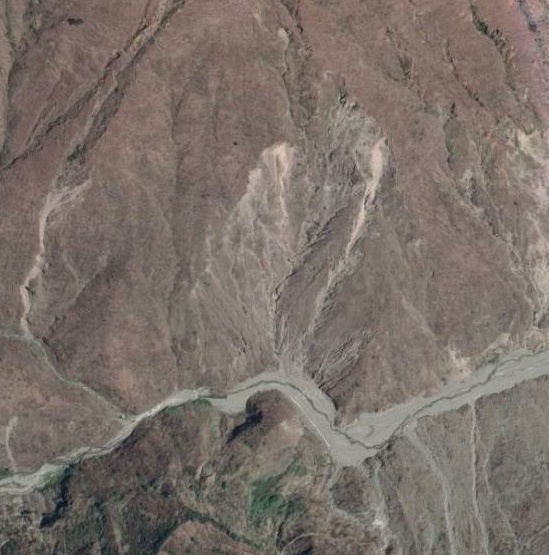slope: (188, 87, 392, 387), (18, 148, 99, 339), (333, 457, 390, 540)
